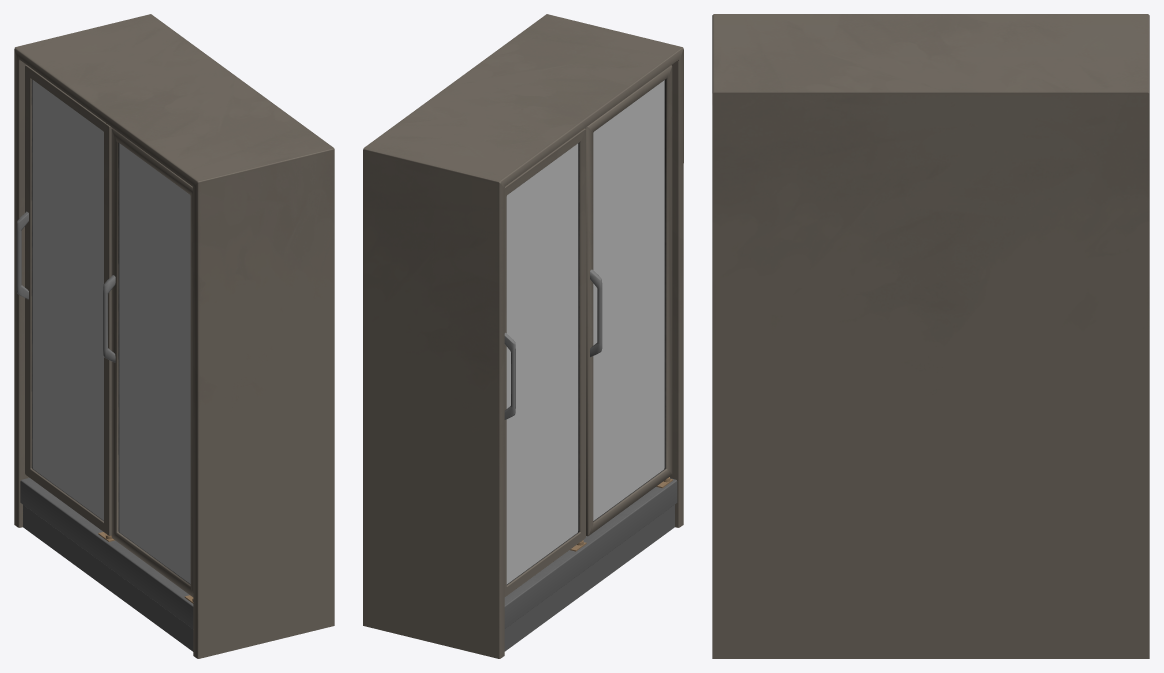
Rendered from SM_Freezer_02.fbx.
The picture shows the model from 3 angles, left to right: view 1: azimuth 30°, elevation 25°; view 2: azimuth 150°, elevation 25°; view 3: azimuth 270°, elevation 25°; orthographic projection. The views are drawn at different scales.
Visible parts, largest first — view 1: SM_Freezer_02_LOD0; view 2: SM_Freezer_02_LOD0; view 3: SM_Freezer_02_LOD0.
Boxes of the visible parts, x1=… form: SM_Freezer_02_LOD0: x1=14, y1=14, x2=334, y2=658; SM_Freezer_02_LOD0: x1=363, y1=14, x2=683, y2=658; SM_Freezer_02_LOD0: x1=712, y1=14, x2=1149, y2=658.
Bounding box in the file's own units: 62.74 × 140 × 200.
Materials: 2 (1 with a texture image).
